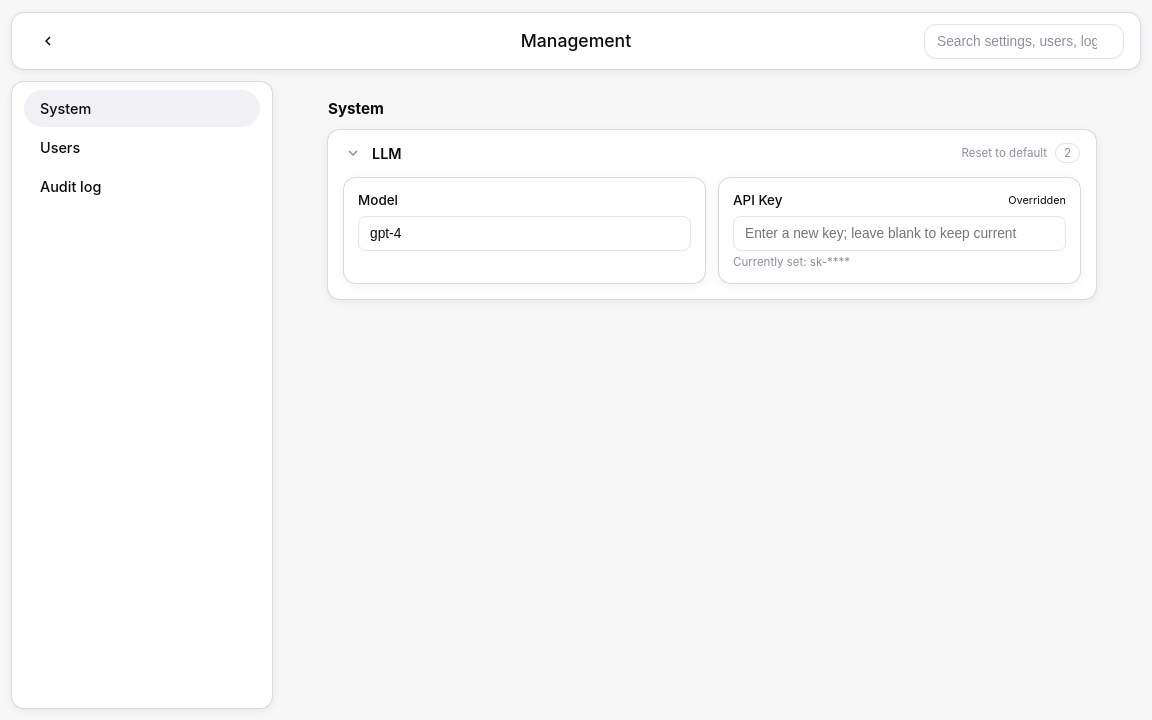
Test: SettingsPage › auto-saves dirty field changes
Check: the heading "Management" is shown, box [521, 30, 631, 52]
Replace the text in the field labelled "Model" with "gpt-4.1". click: (524, 234)
box: [358, 216, 691, 251]
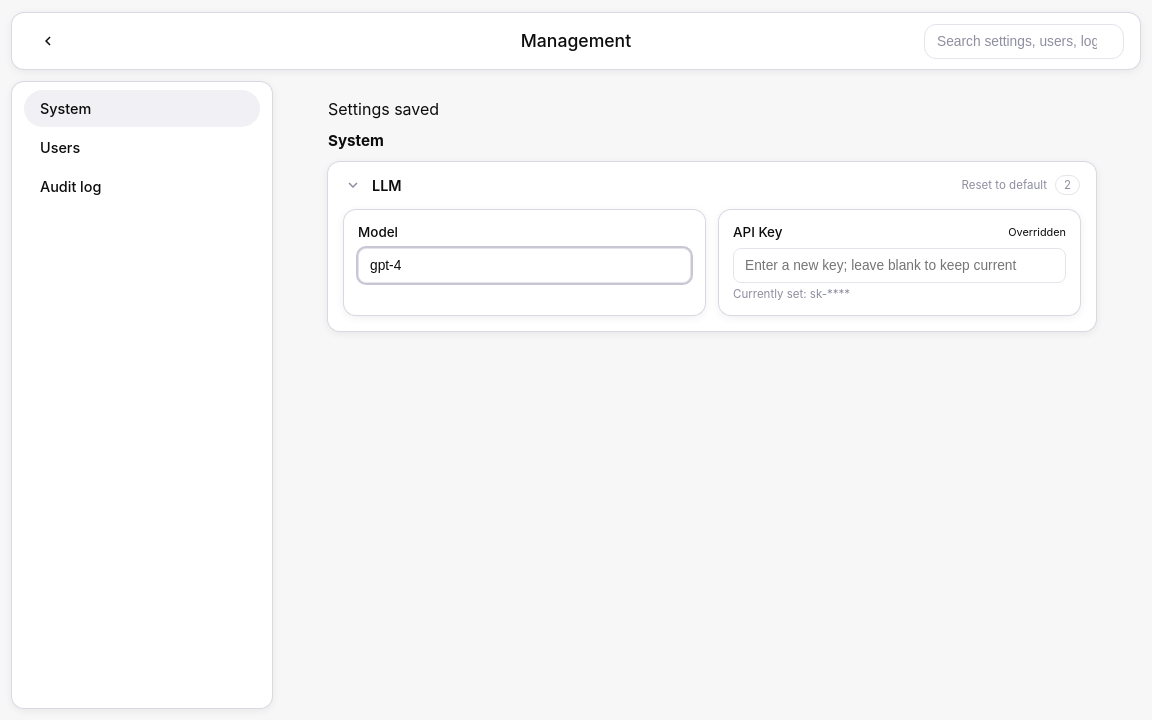
Check: the text "Settings saved" is shown, box [328, 99, 439, 119]
